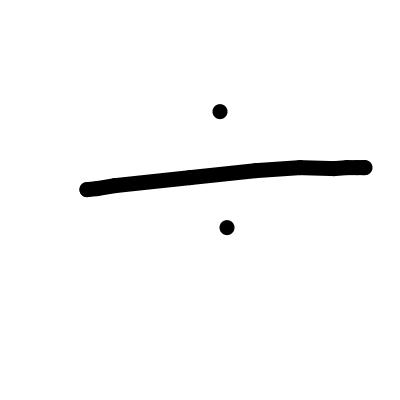div: (80, 104, 373, 236)
